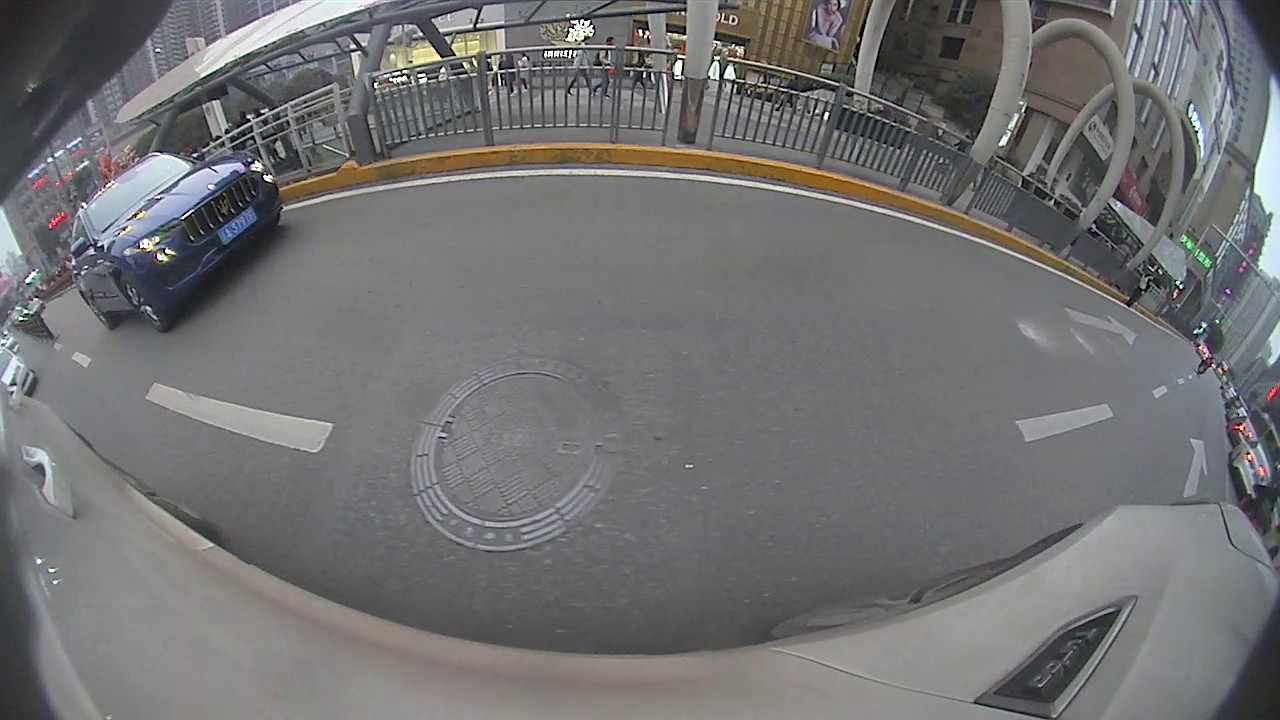car: (68, 152, 283, 332), (1226, 433, 1272, 499)
front: (121, 271, 170, 332)
rear: (82, 294, 113, 333)
